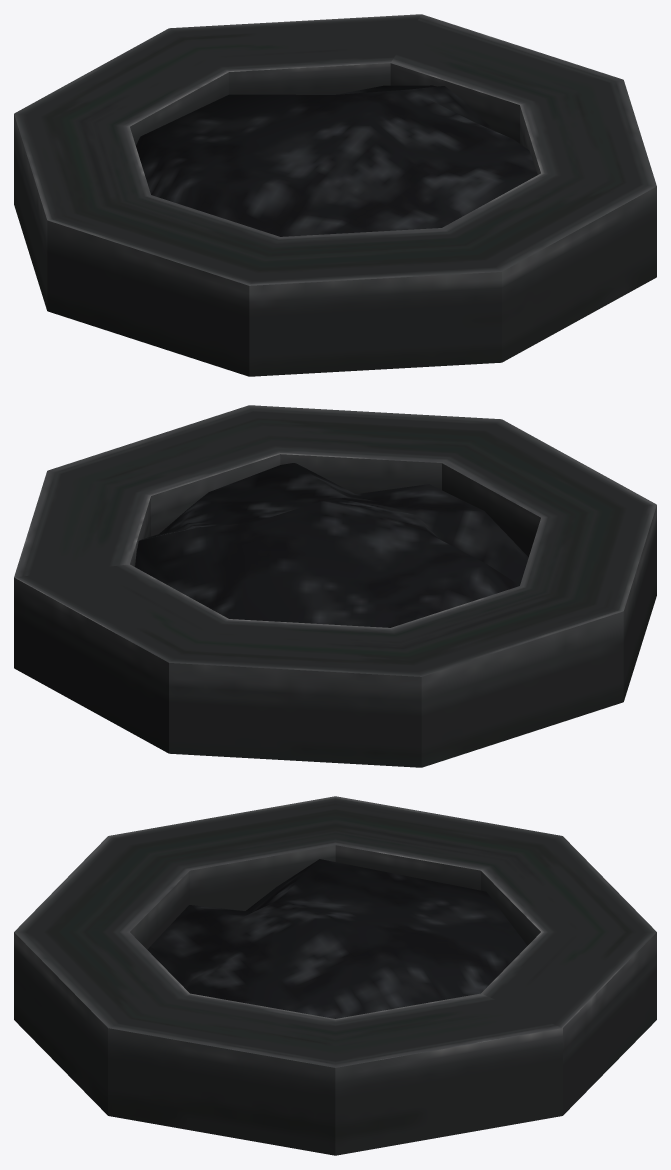
The model's file is SM_PROP_alchemy_coal_city.fbx.
3 renders of one model, top to bottom at view 1: azimuth 30°, elevation 25°; view 2: azimuth 150°, elevation 25°; view 3: azimuth 270°, elevation 25°, orthographic. The views are drawn at different scales.
Visible parts, largest first — view 1: SM_PROP_alchemy_coal_city; view 2: SM_PROP_alchemy_coal_city; view 3: SM_PROP_alchemy_coal_city.
Boxes of the visible parts, left/top/right/bottom form: SM_PROP_alchemy_coal_city: left=14, top=14, right=656, bottom=376; SM_PROP_alchemy_coal_city: left=14, top=405, right=656, bottom=767; SM_PROP_alchemy_coal_city: left=14, top=796, right=656, bottom=1155.
Size of the model in its own units: 38.38 by 7.43 by 38.38.
